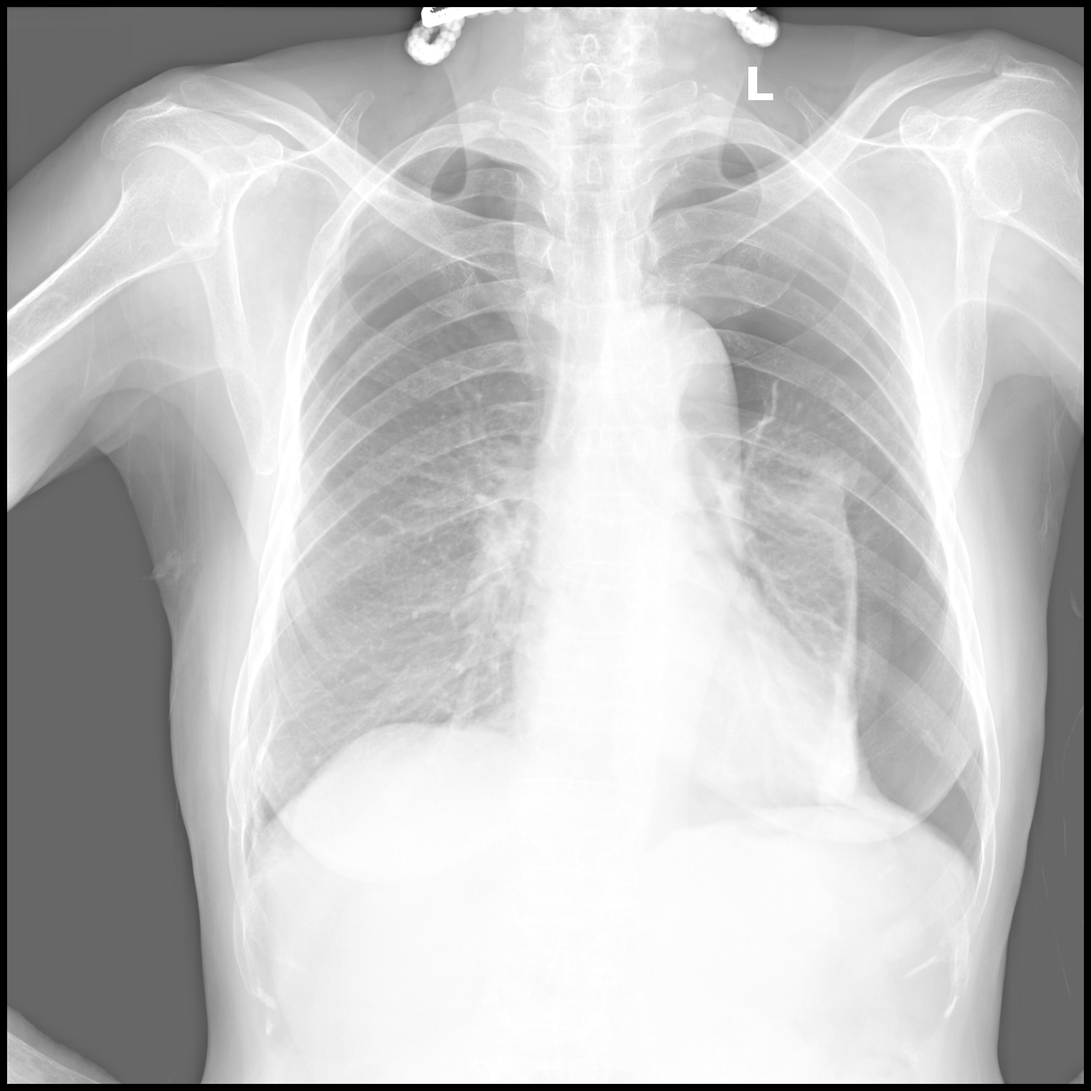Aortic enlargement: (594, 300, 743, 473)
Pleural thickening: (247, 700, 293, 839)
Pulmonary fibrosis: (247, 700, 293, 839)
